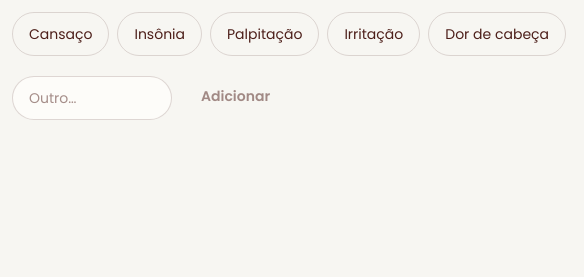
it: SymptomLogger › só pede intensidade depois de escolher um sintoma e registra
Check: the element "Intensidade" is not shown
Click the button "Insônia".
click(160, 34)  # box [118,12,202,56]
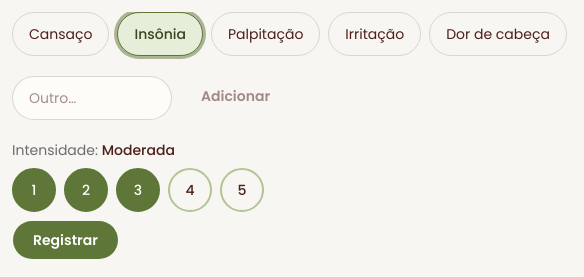
Click the radio button named "4 de 5".
click(190, 190)  # box [168,168,212,212]
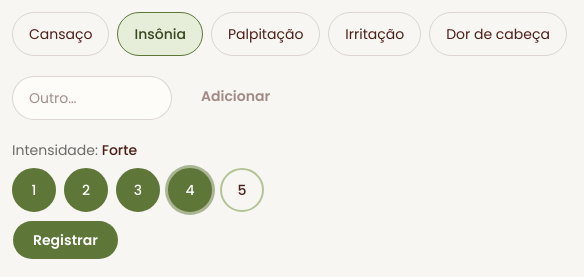
Click the button "Registrar".
click(65, 240)  # box [12,220,119,260]
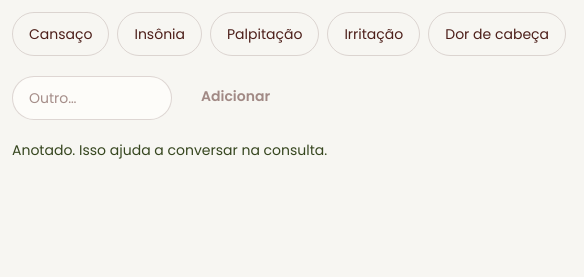
Check: the message shows "Anotado", box [12,140,327,160]
